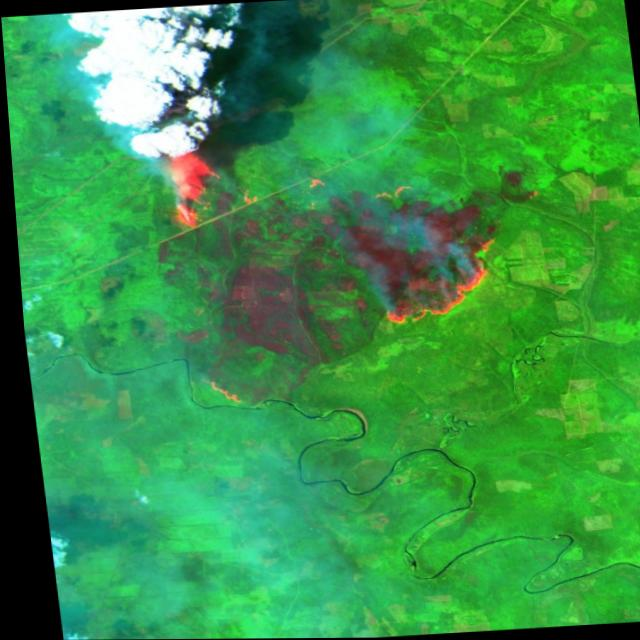fire: (147, 126, 506, 341)
